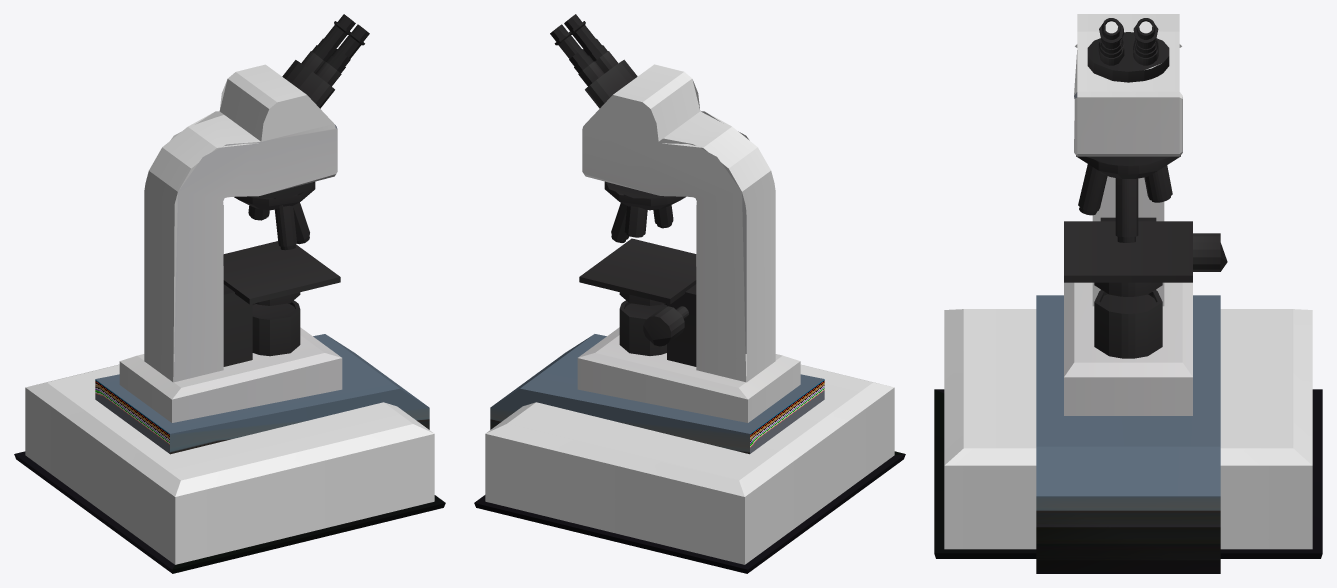
File: Microscope.fbx
3 views of the same model, side by side, from view 1: azimuth 30°, elevation 25°; view 2: azimuth 150°, elevation 25°; view 3: azimuth 270°, elevation 25° (orthographic). The views are drawn at different scales.
Parts seen in each view (by area): view 1: Microscope; view 2: Microscope; view 3: Microscope.
Boxes of the visible parts, <box> form: Microscope: <box>14,14,445,573</box>; Microscope: <box>474,14,905,573</box>; Microscope: <box>934,14,1322,573</box>.
Bounding box in the file's own units: 53.49 × 74.13 × 48.96.
